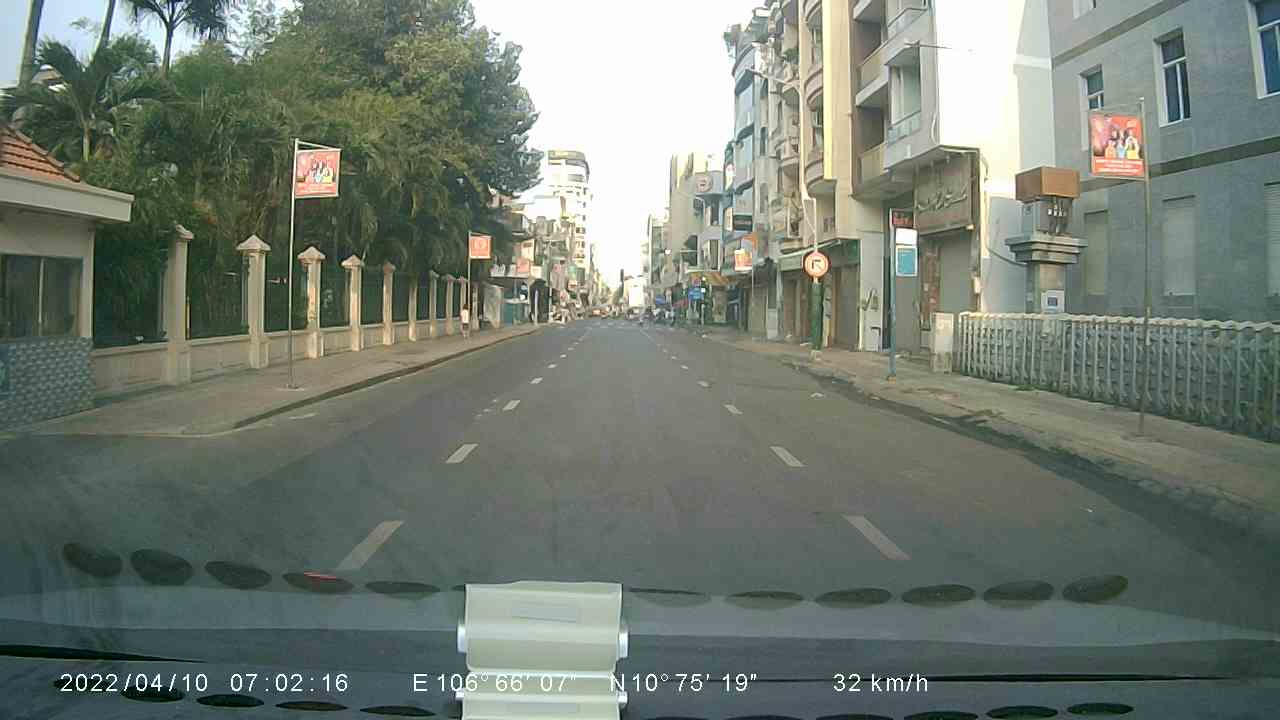Bien khac: (801, 250, 828, 278)
